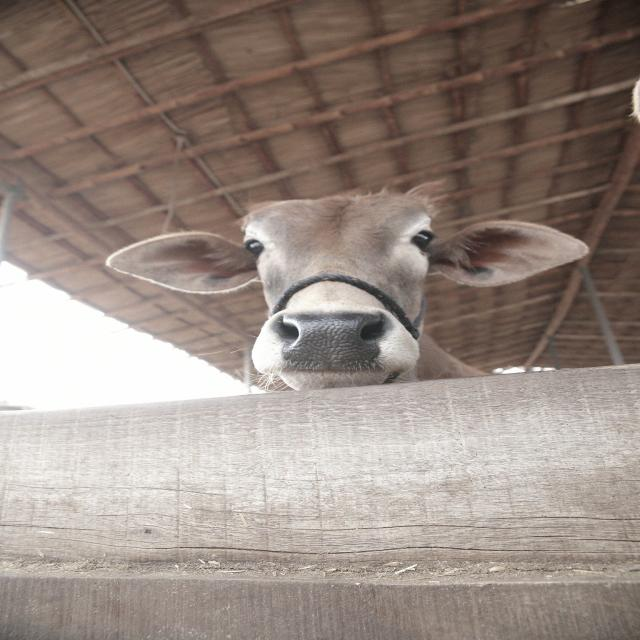muzzles: (254, 306, 403, 378)
